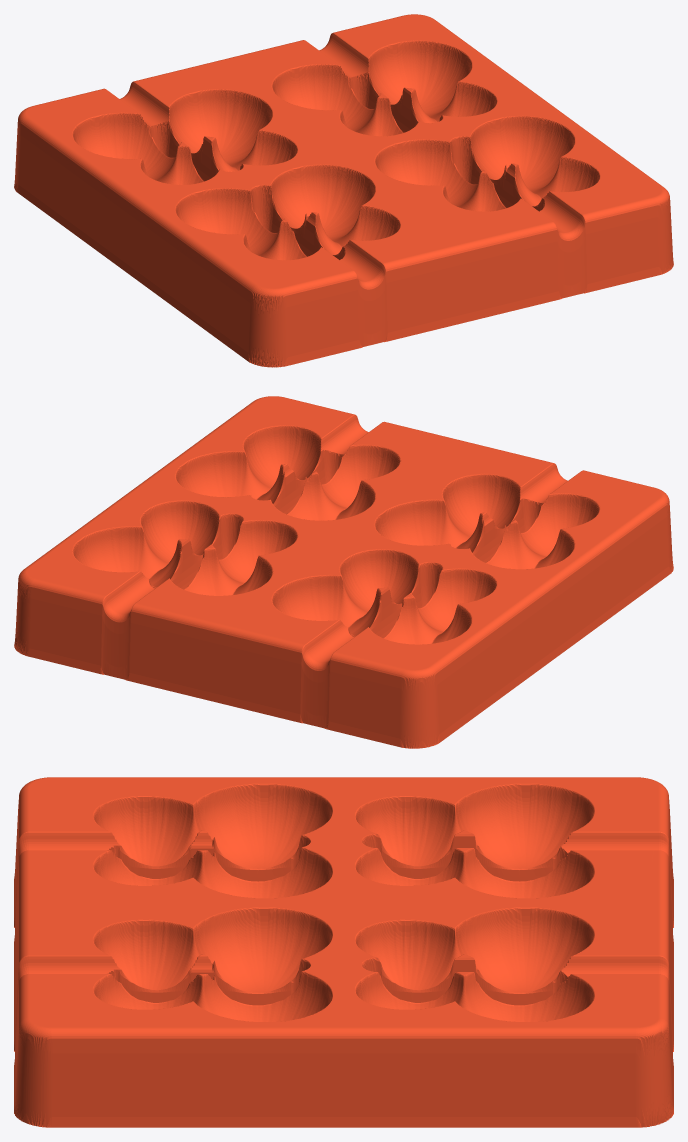
Rendered from mold.glb.
3 renders of one model, top to bottom at view 1: azimuth 30°, elevation 25°; view 2: azimuth 150°, elevation 25°; view 3: azimuth 270°, elevation 25°, orthographic. The views are drawn at different scales.
Visible parts, largest first — view 1: geometry_0; view 2: geometry_0; view 3: geometry_0.
Part boxes in pixels (x1,y1,x2,y2): geometry_0: (14,14,673,367); geometry_0: (14,396,673,748); geometry_0: (14,777,673,1127).
Size of the model in its own units: 0.1468 by 0.0245 by 0.1562.
